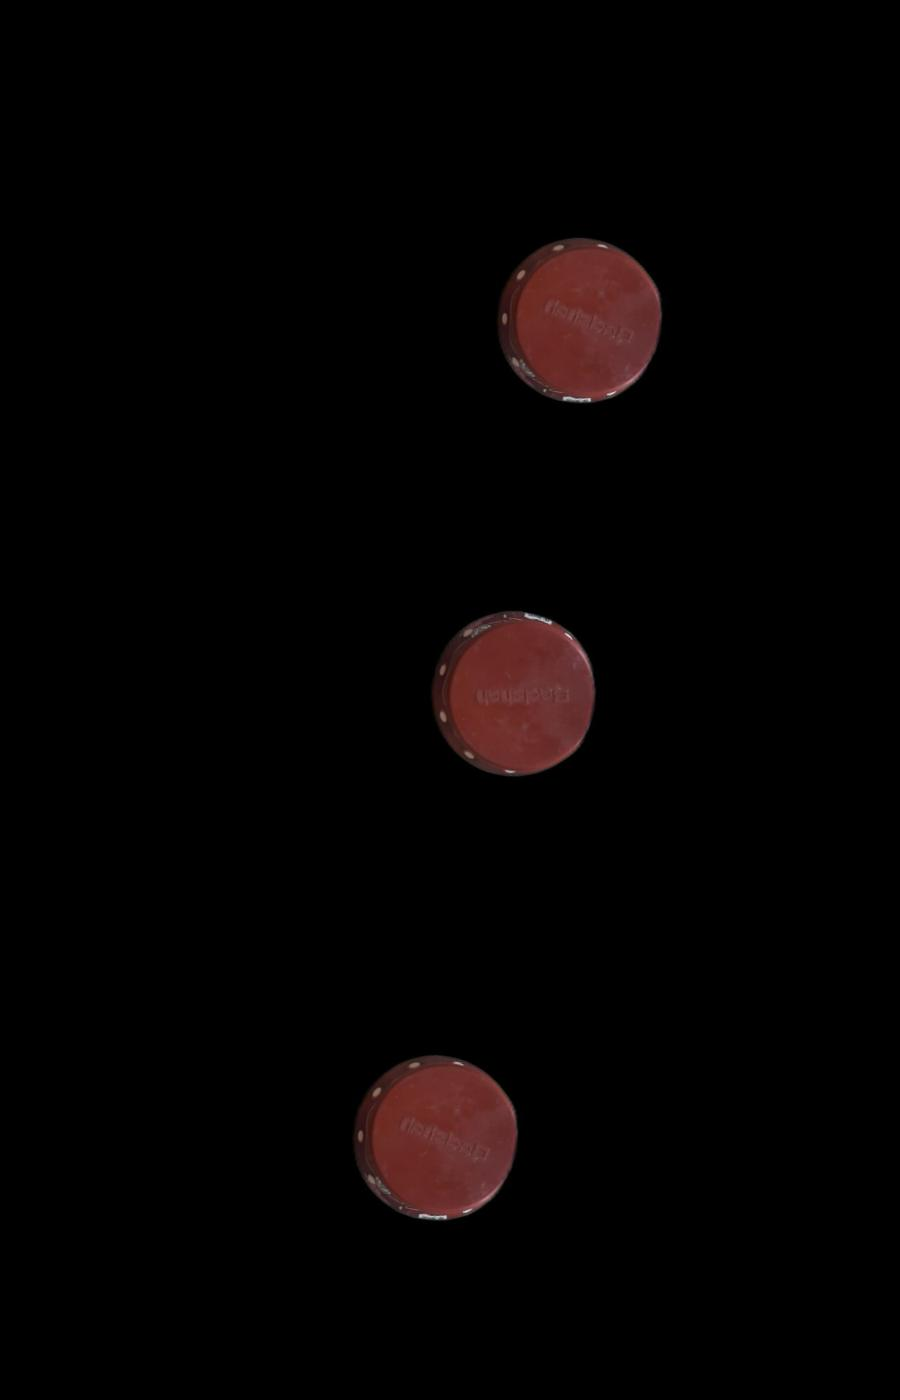Badshah Afgani Hing: (419, 585, 607, 794), (339, 1037, 527, 1246), (484, 218, 671, 427)
